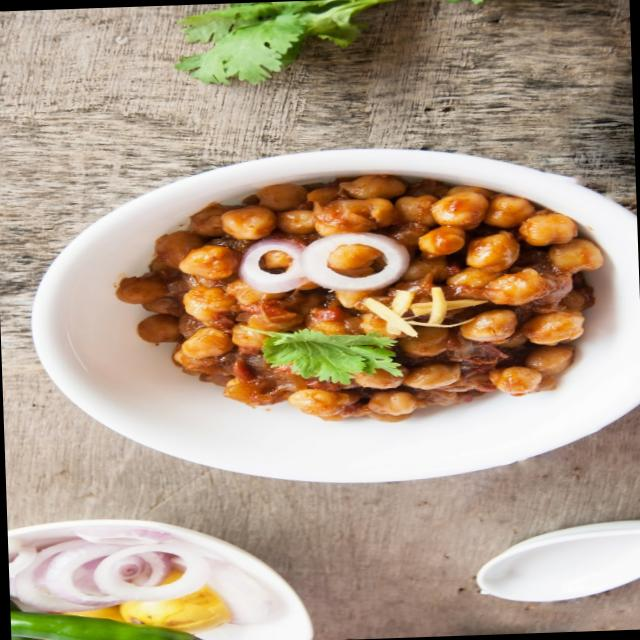Chole: (105, 164, 621, 431)
